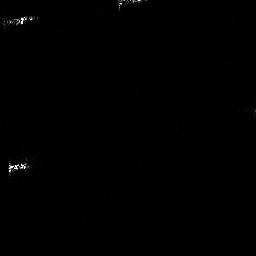ship: (2, 12, 39, 28), (5, 159, 31, 176)
